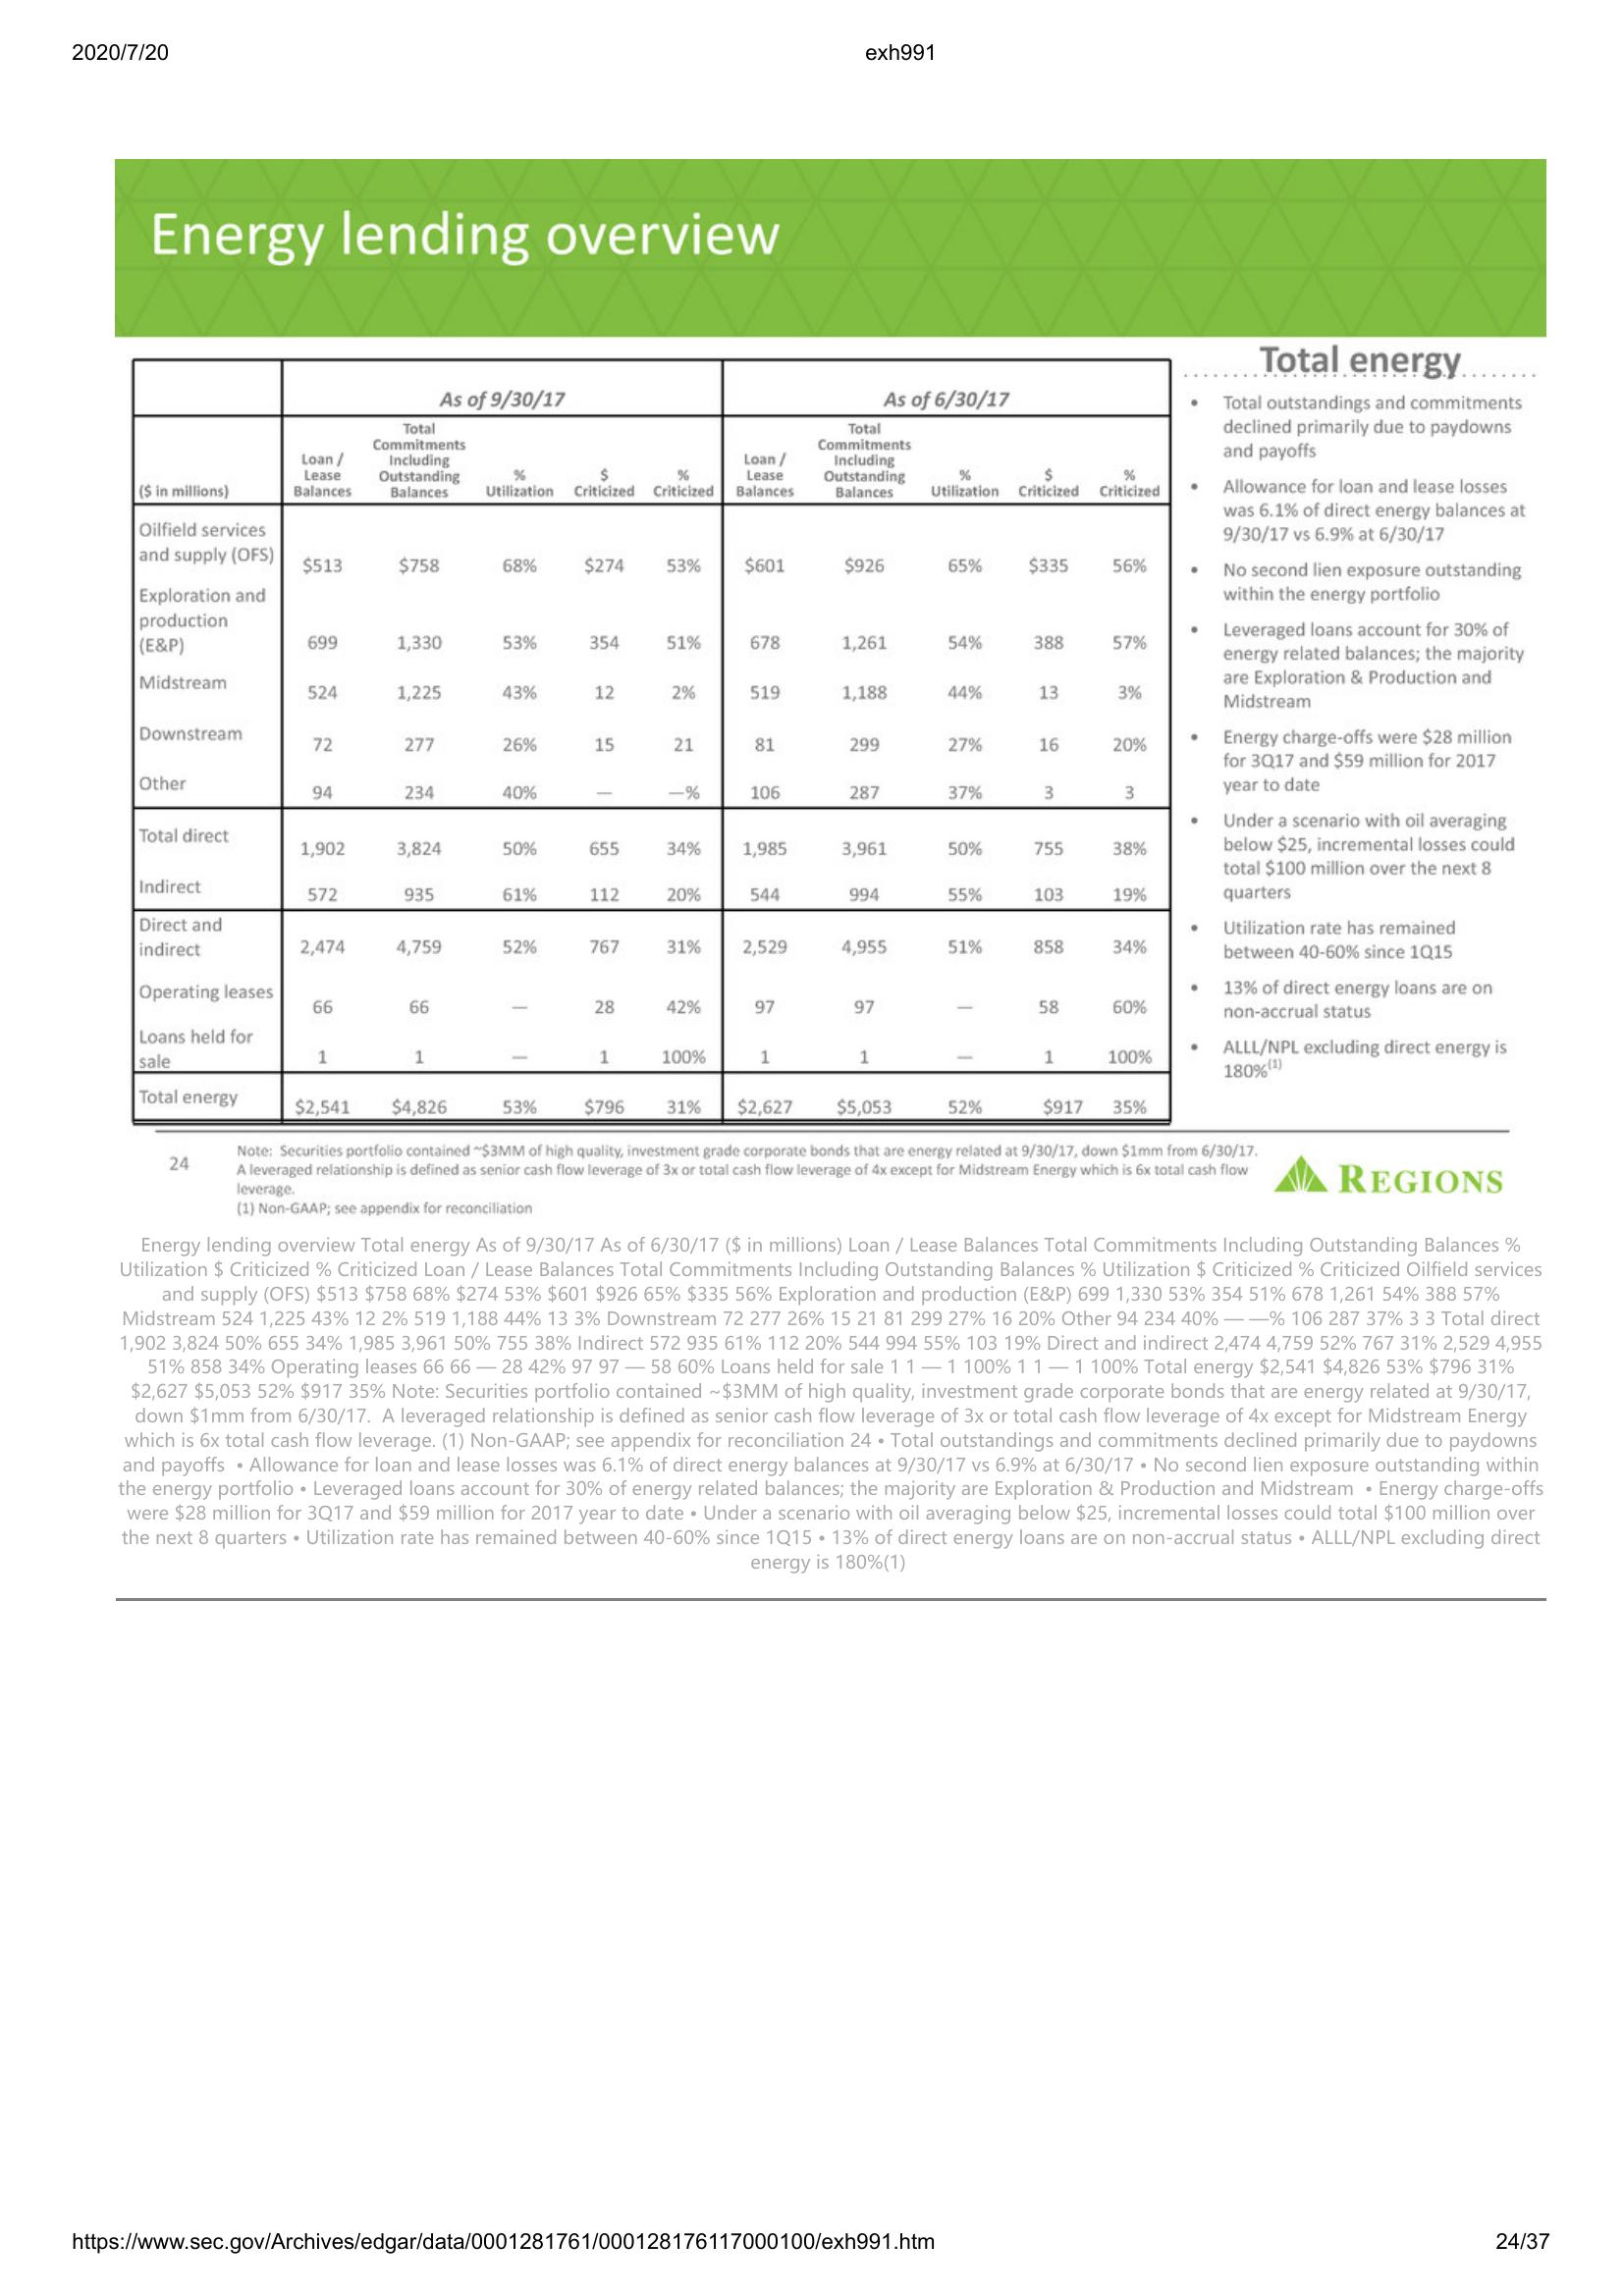table: (126, 353, 1179, 1139)
